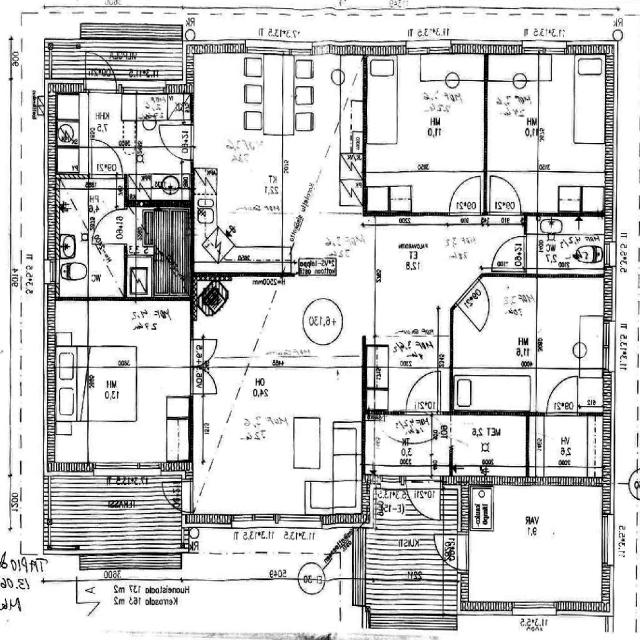door: (456, 277, 502, 331), (406, 474, 441, 528), (426, 534, 470, 571), (86, 43, 118, 93), (407, 372, 441, 417), (159, 124, 194, 160), (92, 139, 123, 179), (547, 376, 578, 416), (490, 177, 521, 216), (450, 176, 480, 216), (94, 209, 128, 244), (494, 236, 528, 270), (155, 481, 193, 511), (189, 366, 218, 394), (190, 338, 218, 366)
